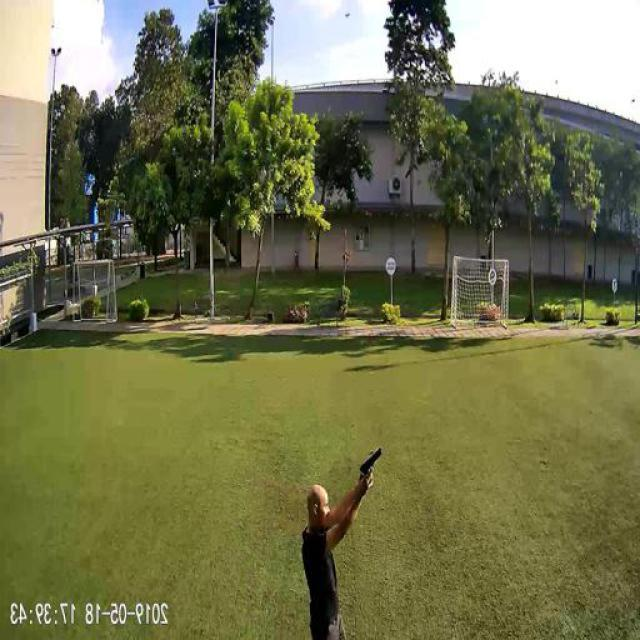weapon: (358, 449, 381, 478)
